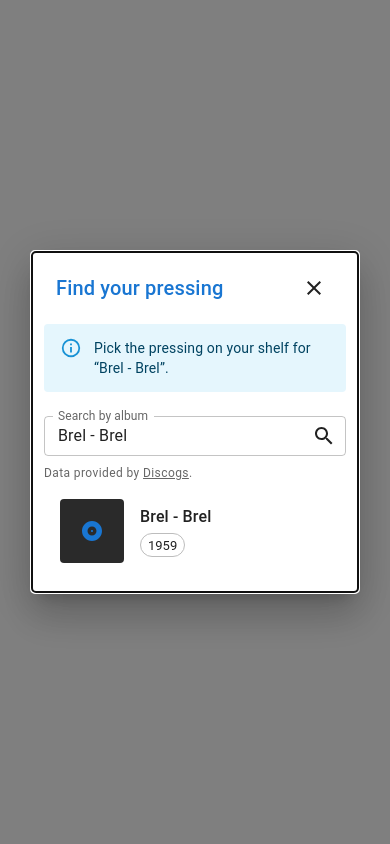
it: Finding the right pressing › keeps the dialog open with a message when the replacement fails
This screenshot has width=390, height=844.
Click the text "Brel - Brel" at (176, 517), box x1=140 y1=508 x2=211 y2=526
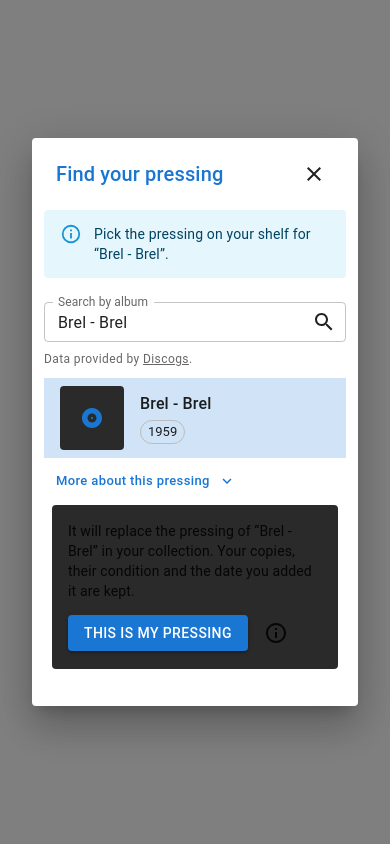
Click the button "This is my pressing" at (158, 633), box x1=68 y1=614 x2=248 y2=651
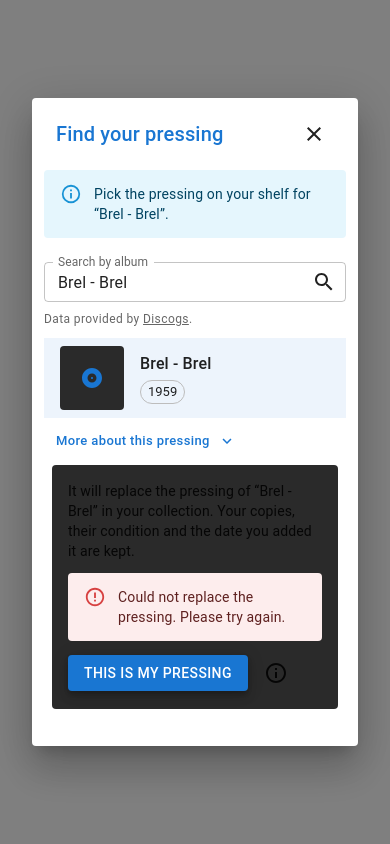
Expected: the text "Could not replace the pressing. Please try again." is shown, x1=118 y1=579 x2=306 y2=635
